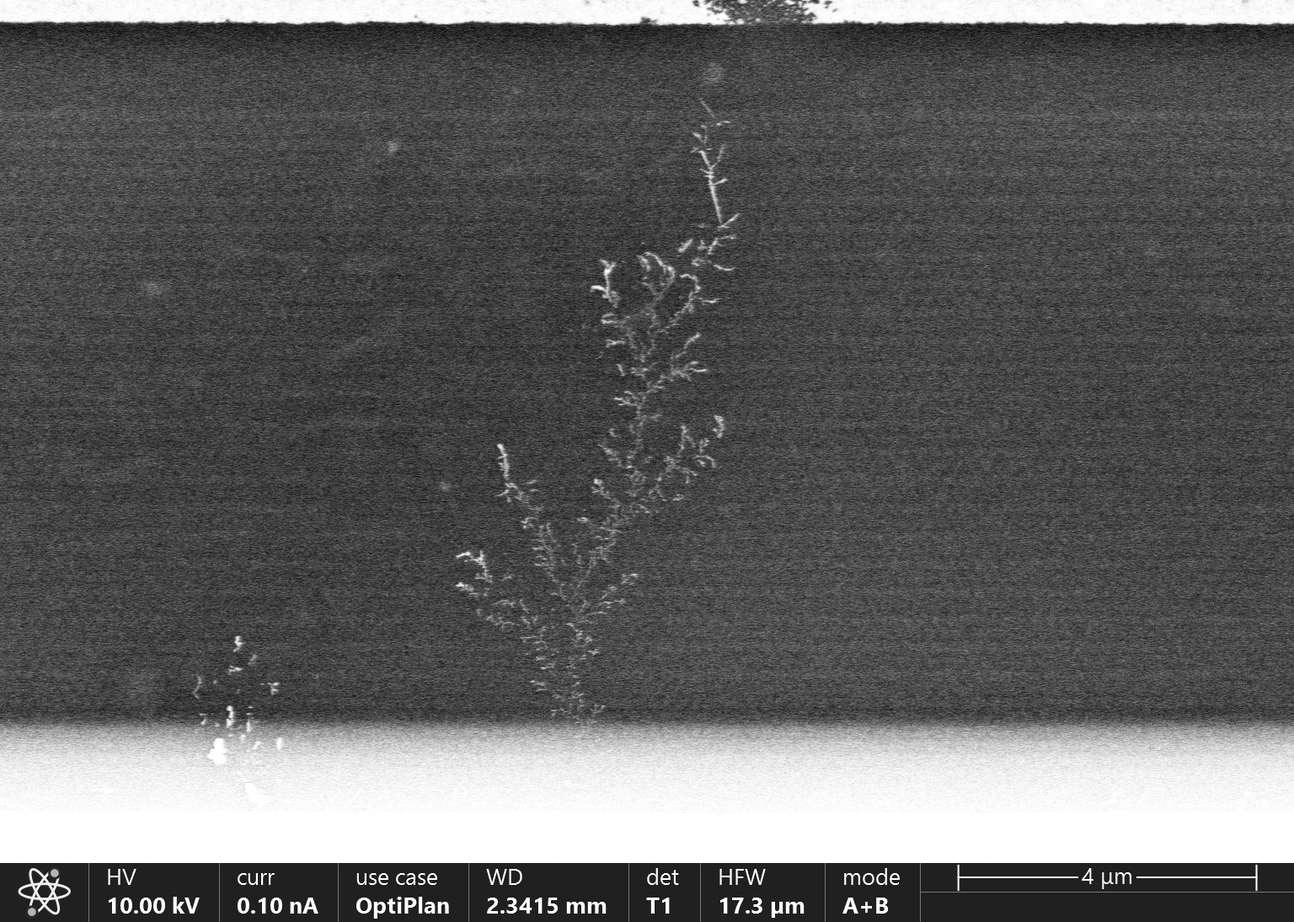dendrite: (691, 147, 728, 220), (638, 251, 675, 287), (591, 260, 619, 307), (578, 599, 628, 624), (668, 361, 709, 380), (698, 234, 736, 254), (681, 274, 699, 313), (495, 484, 529, 502), (676, 422, 694, 456), (598, 442, 622, 466), (456, 550, 486, 567), (634, 338, 655, 362), (596, 538, 616, 563), (484, 614, 515, 630), (601, 312, 632, 327), (497, 444, 509, 480), (640, 303, 658, 327), (717, 213, 741, 230), (645, 374, 666, 393), (703, 62, 722, 83), (591, 479, 610, 498), (643, 282, 662, 301), (533, 626, 548, 650), (455, 582, 479, 597), (631, 362, 655, 377), (532, 538, 553, 555), (612, 398, 643, 409), (628, 424, 642, 448), (534, 556, 555, 571), (625, 469, 646, 484), (683, 331, 701, 348), (694, 455, 717, 468), (565, 623, 582, 639), (699, 98, 714, 116), (214, 739, 226, 760), (713, 415, 725, 436), (599, 525, 621, 536), (665, 311, 680, 327), (551, 582, 565, 599), (665, 455, 679, 472), (626, 326, 636, 349), (621, 573, 640, 585), (536, 522, 552, 536), (475, 569, 492, 582), (601, 585, 617, 598), (193, 675, 202, 698), (625, 450, 636, 468), (571, 692, 584, 707), (649, 485, 663, 498), (529, 680, 547, 690), (493, 599, 515, 607), (635, 411, 646, 427), (692, 131, 708, 142), (624, 390, 641, 400), (233, 636, 244, 651), (679, 239, 692, 251), (266, 683, 280, 694), (576, 517, 593, 526), (717, 144, 726, 161), (606, 338, 624, 346), (227, 706, 234, 726), (699, 438, 708, 453), (670, 351, 685, 360), (698, 298, 720, 304), (714, 265, 735, 271), (521, 517, 532, 528), (227, 666, 242, 674), (609, 498, 619, 510), (650, 411, 662, 421), (527, 505, 543, 512), (589, 556, 599, 567), (586, 649, 601, 656), (608, 428, 618, 438), (672, 494, 685, 501), (692, 258, 705, 265), (275, 737, 283, 748), (249, 654, 257, 665), (439, 482, 450, 490), (616, 364, 624, 375), (247, 721, 254, 732), (522, 480, 536, 485), (697, 460, 706, 467), (682, 468, 690, 474), (686, 476, 690, 483), (692, 471, 697, 475), (532, 517, 536, 519)
